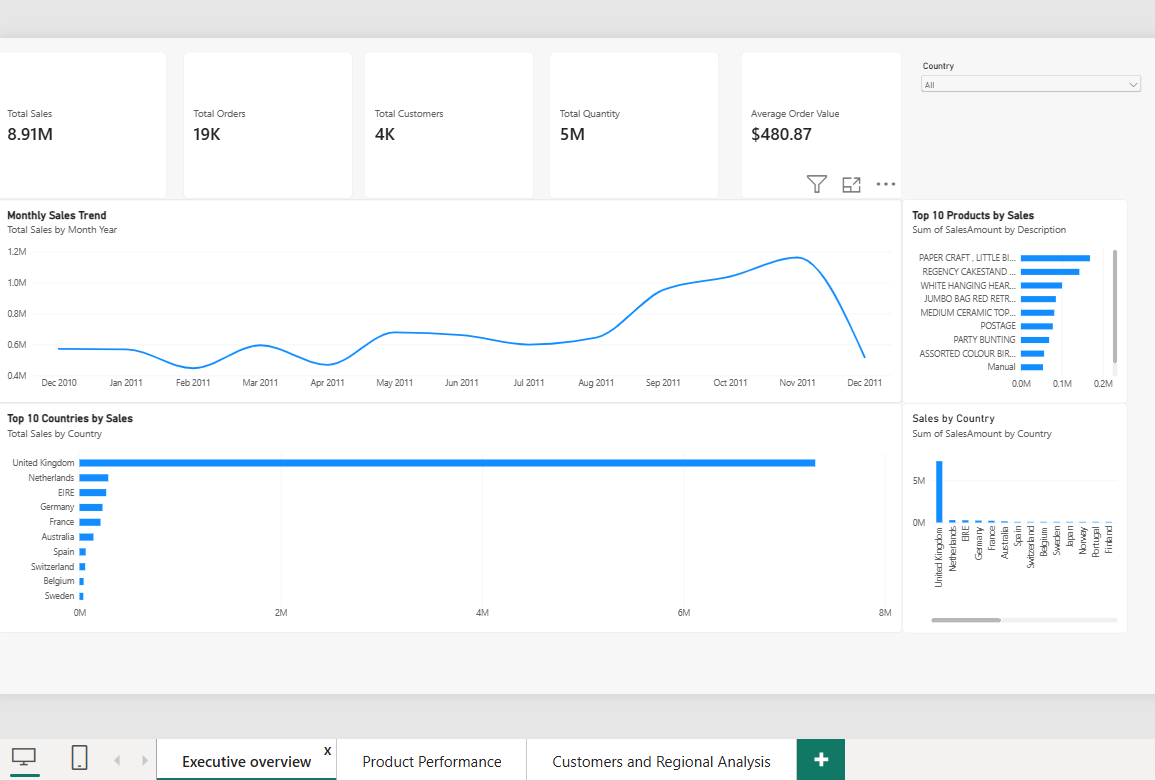

Layout of this report page (visuals, bound fields, positions):
{"tool":"powerbi","page":{"name":"Executive overview","canvas":[1920,1080],"ordinal":0},"visuals":[{"type":"cardVisual","title":"Total Sales","fields":{"Data":["Online Retail.Total Sales"]},"box":[0,22.6,279.9,242.9],"z":0},{"type":"cardVisual","title":"Total Sales","fields":{"Data":["Online Retail.Total Orders"]},"box":[306.7,22.6,279.9,242.9],"z":1000},{"type":"cardVisual","title":"Total Sales","fields":{"Data":["Online Retail.Total Customers"]},"box":[605.1,22.6,279.9,242.9],"z":2000},{"type":"cardVisual","title":"Total Sales","fields":{"Data":["Online Retail.Total Quantity"]},"box":[909.8,22.6,279.9,242.9],"z":3000},{"type":"cardVisual","title":"Total Sales","fields":{"Data":["Online Retail.Average Order Value"]},"box":[1224.7,22.6,265.5,242.9],"z":4000},{"type":"lineChart","title":"Monthly Sales Trend","fields":{"Category":["DateTable.Month Year"],"Y":["Online Retail.Total Sales"]},"box":[0,265.5,1490.2,335.5],"z":5000},{"type":"clusteredBarChart","title":"Top 10 Countries by Sales","fields":{"Category":["Online Retail.Country"],"Y":["Online Retail.Total Sales"]},"box":[0,601,1490.2,378.7],"z":6000},{"type":"slicer","fields":{"Values":["Online Retail.Country"]},"box":[1517,37,372.6,67.9],"z":7000},{"type":"clusteredBarChart","title":"Top 10 Products by Sales","fields":{"Category":["Online Retail.Description"],"Y":["Sum(Online Retail.SalesAmount)"]},"box":[1490.2,265.5,372,336],"z":8000},{"type":"clusteredColumnChart","title":"Sales by Country","fields":{"Category":["Online Retail.Country"],"Y":["Sum(Online Retail.SalesAmount)"]},"box":[1490,601,372,379],"z":9000}]}

Visuals, with their boxes in screenshot pixels (x1, y1, x2, y2):
"Total Sales" cardVisual: box(18, 104, 190, 254)
"Total Sales" cardVisual: box(207, 104, 379, 254)
"Total Sales" cardVisual: box(390, 104, 562, 254)
"Total Sales" cardVisual: box(578, 104, 750, 254)
"Total Sales" cardVisual: box(771, 104, 935, 254)
"Monthly Sales Trend" lineChart: box(18, 254, 935, 460)
"Top 10 Countries by Sales" clusteredBarChart: box(18, 460, 935, 693)
slicer - Online Retail.Country: box(951, 113, 1154, 155)
"Top 10 Products by Sales" clusteredBarChart: box(935, 254, 1154, 460)
"Sales by Country" clusteredColumnChart: box(934, 460, 1154, 693)
